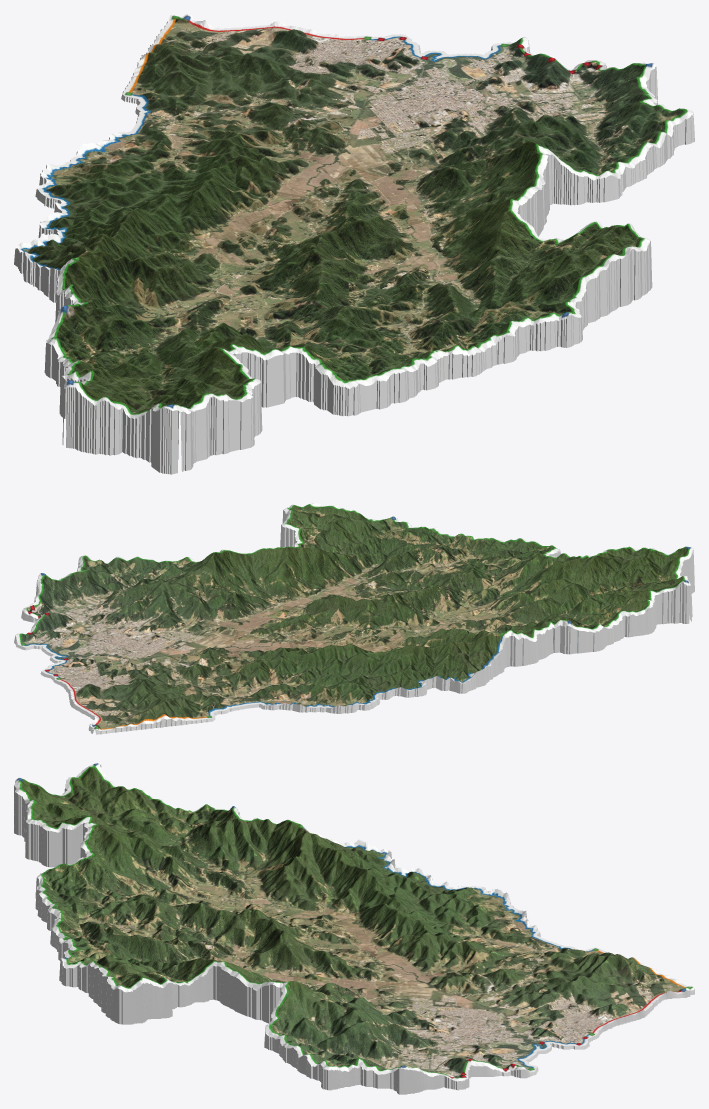
The model's file is camboriu.glb.
The picture shows the model from 3 angles, top to bottom: view 1: azimuth 30°, elevation 25°; view 2: azimuth 150°, elevation 25°; view 3: azimuth 270°, elevation 25°; orthographic projection. The views are drawn at different scales.
Size of the model in its own units: 1 by 0.0786 by 1.
Materials: 1 (1 with a texture image).
